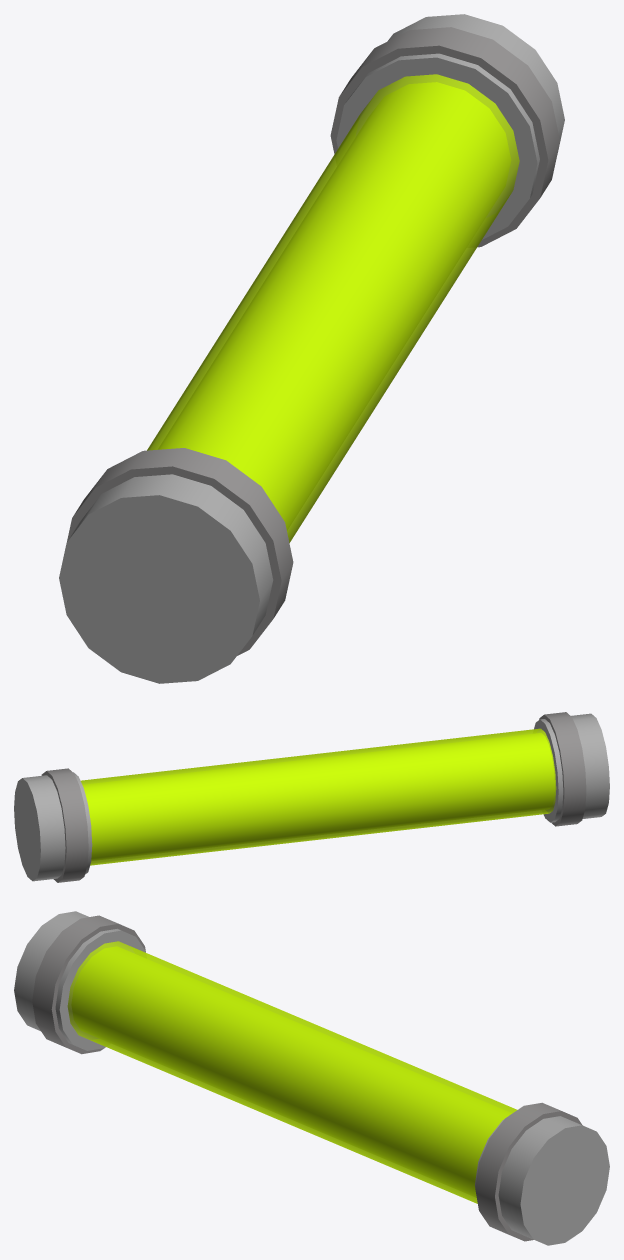
File: CMU3DTreasureSampleTubeDrinksExtraCloudEnergy.glb
The picture shows the model from 3 angles, top to bottom: view 1: azimuth 30°, elevation 25°; view 2: azimuth 150°, elevation 25°; view 3: azimuth 270°, elevation 25°; orthographic projection. The views are drawn at different scales.
Visible parts, largest first — view 1: translucent tube envelope, continuous sample inner body, closed grey end plug 0, closed grey end plug 1, plug raised collar 1, plug raised collar 0; view 2: translucent tube envelope, continuous sample inner body, closed grey end plug 1, closed grey end plug 0, plug raised collar 1, plug raised collar 0; view 3: translucent tube envelope, continuous sample inner body, closed grey end plug 1, closed grey end plug 0, plug raised collar 0, plug raised collar 1.
Part boxes in pixels (x1,y1,x2,y2): translucent tube envelope: [147, 74, 519, 542]; continuous sample inner body: [159, 82, 510, 529]; closed grey end plug 0: [59, 474, 273, 683]; closed grey end plug 1: [336, 14, 564, 239]; plug raised collar 1: [330, 27, 560, 247]; plug raised collar 0: [67, 448, 293, 655]; translucent tube envelope: [81, 728, 556, 865]; continuous sample inner body: [83, 733, 554, 860]; closed grey end plug 1: [14, 772, 92, 881]; closed grey end plug 0: [534, 713, 609, 822]; plug raised collar 1: [41, 768, 88, 882]; plug raised collar 0: [539, 712, 586, 826]; translucent tube envelope: [67, 941, 517, 1203]; continuous sample inner body: [72, 947, 511, 1196]; closed grey end plug 1: [475, 1116, 609, 1245]; closed grey end plug 0: [14, 911, 145, 1050]; plug raised collar 0: [32, 915, 145, 1054]; plug raised collar 1: [475, 1102, 582, 1241].
Bounding box in the file's own units: 0.452 × 0.104 × 0.452.
